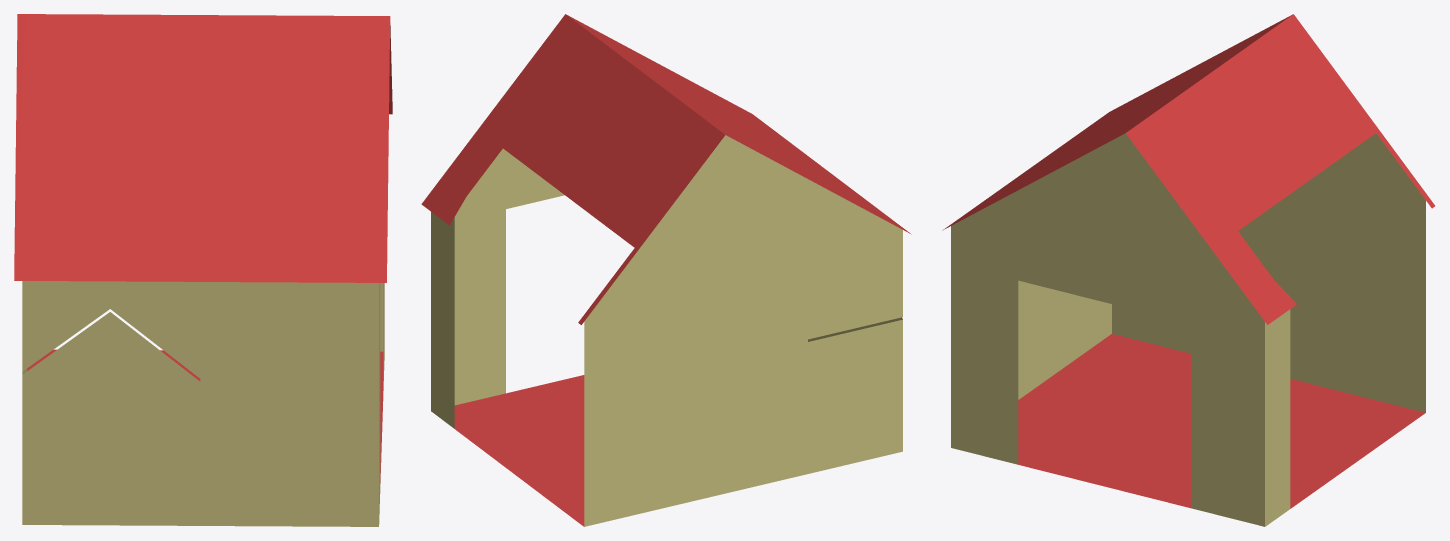
The picture shows the model from 3 angles, left to right: view 1: azimuth 30°, elevation 25°; view 2: azimuth 150°, elevation 25°; view 3: azimuth 270°, elevation 25°; orthographic projection. The views are drawn at different scales.
Size of the model in its own units: 17.01 by 17.65 by 14.27.
